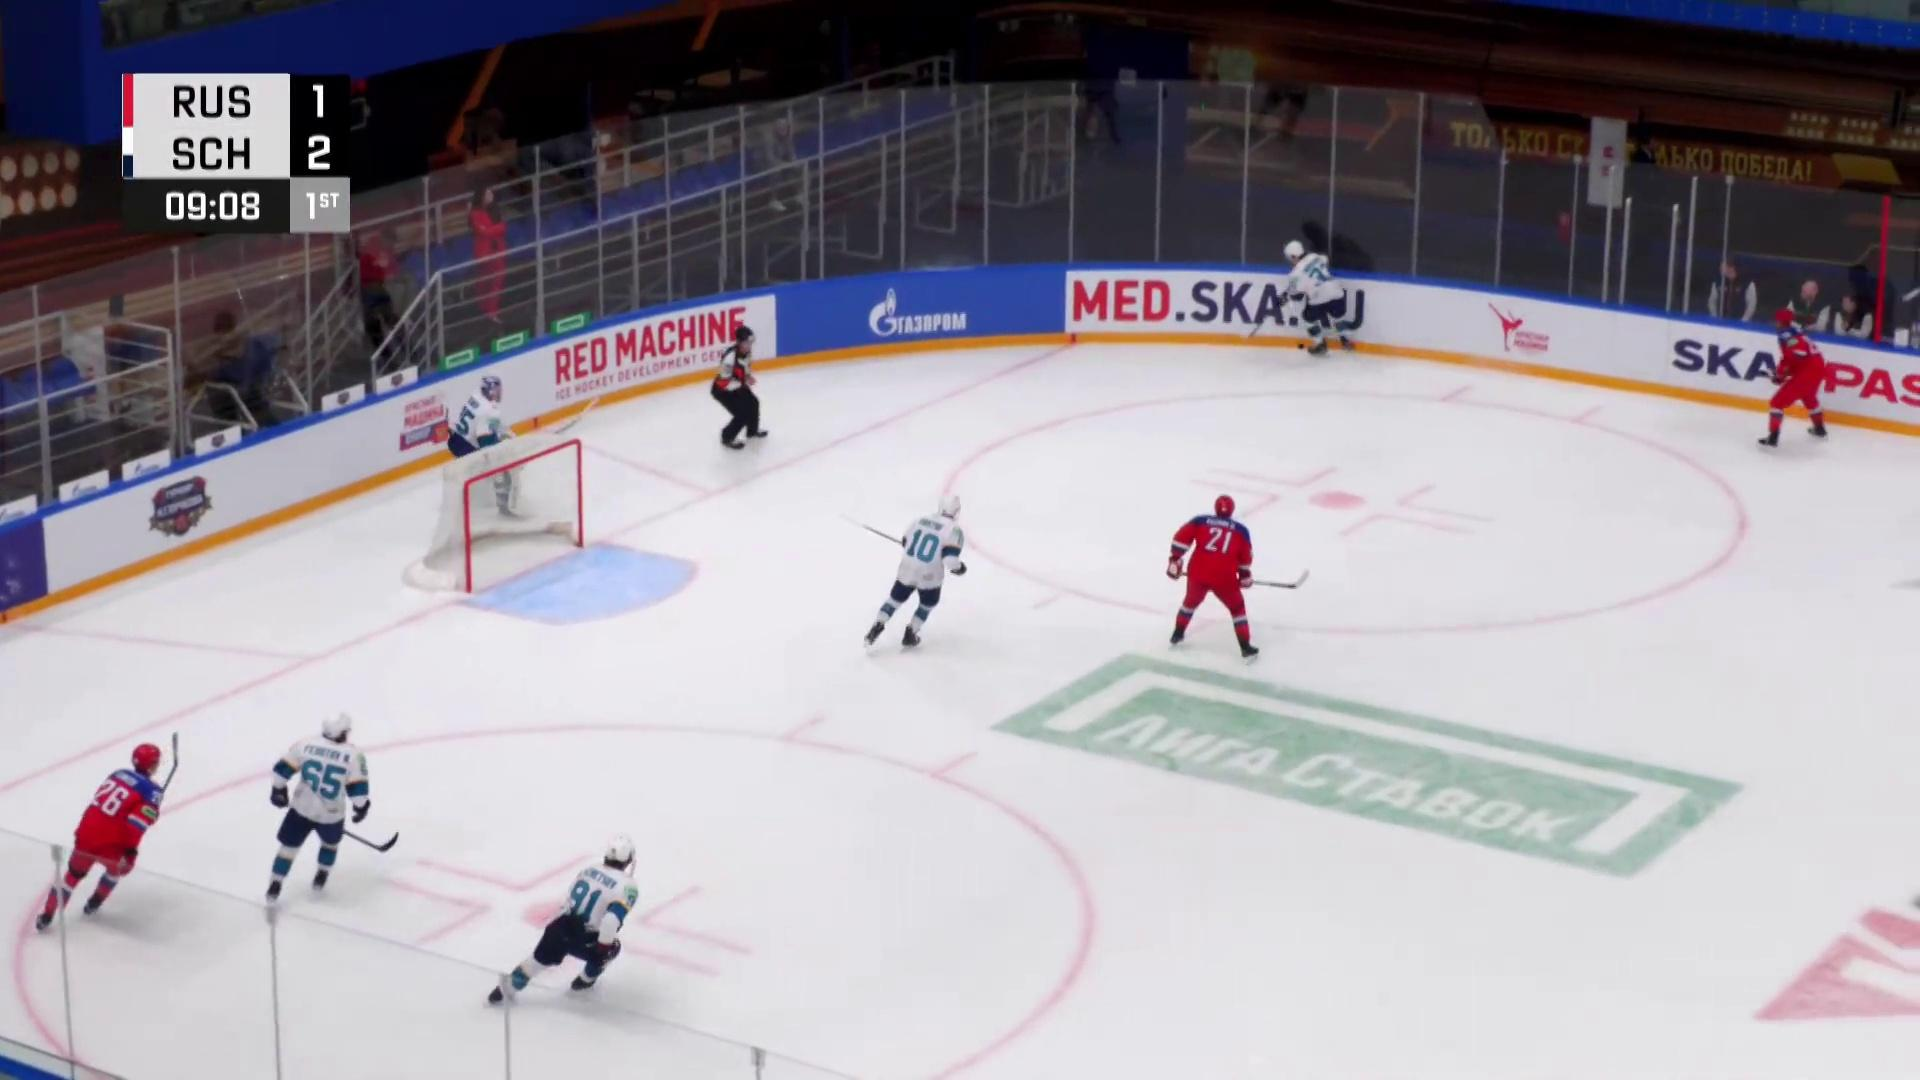ball: (1296, 344, 1304, 351)
